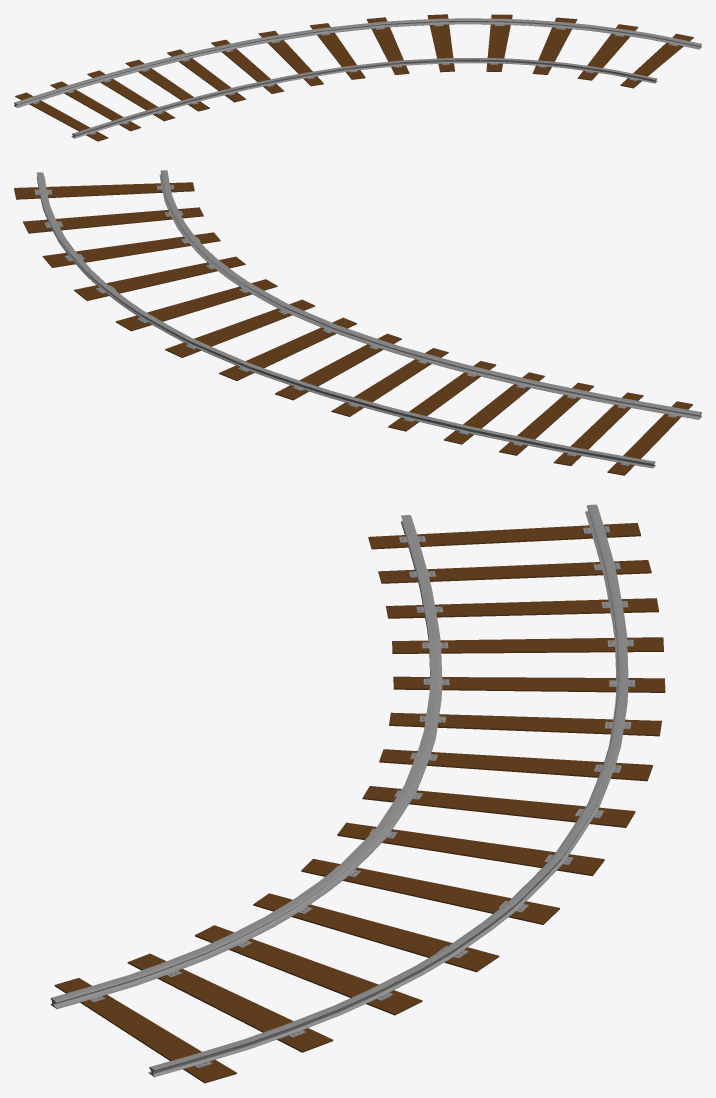
The model's file is TrainTrack4.fbx.
3 views of the same model, one above another, from view 1: azimuth 30°, elevation 25°; view 2: azimuth 150°, elevation 25°; view 3: azimuth 270°, elevation 25° (orthographic). The views are drawn at different scales.
Visible parts, largest first — view 1: Cube.012; view 2: Cube.012; view 3: Cube.012.
Part boxes in pixels (x1=…): Cube.012: x1=14, y1=14, x2=701, y2=141; Cube.012: x1=14, y1=170, x2=701, y2=475; Cube.012: x1=50, y1=504, x2=665, y2=1083.
Size of the model in its own units: 2590 by 24.97 by 1184.
